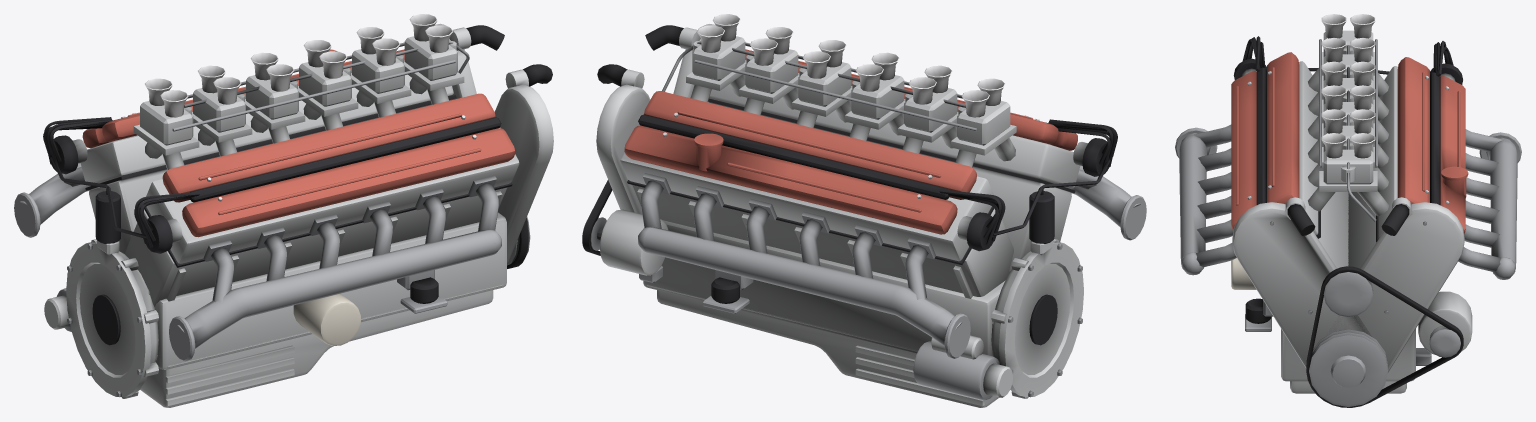
File: eng_v12.glb
3 views of the same model, side by side, from view 1: azimuth 30°, elevation 25°; view 2: azimuth 150°, elevation 25°; view 3: azimuth 270°, elevation 25° (orthographic). The views are drawn at different scales.
Parts seen in each view (by area): view 1: PART; view 2: PART; view 3: PART.
Part boxes in pixels (box(x1,y1,x2,y2)): PART: box(14, 14, 553, 407); PART: box(582, 14, 1146, 407); PART: box(1175, 14, 1521, 407).
Bounding box in the file's own units: 1.05 × 0.656 × 0.7702.
